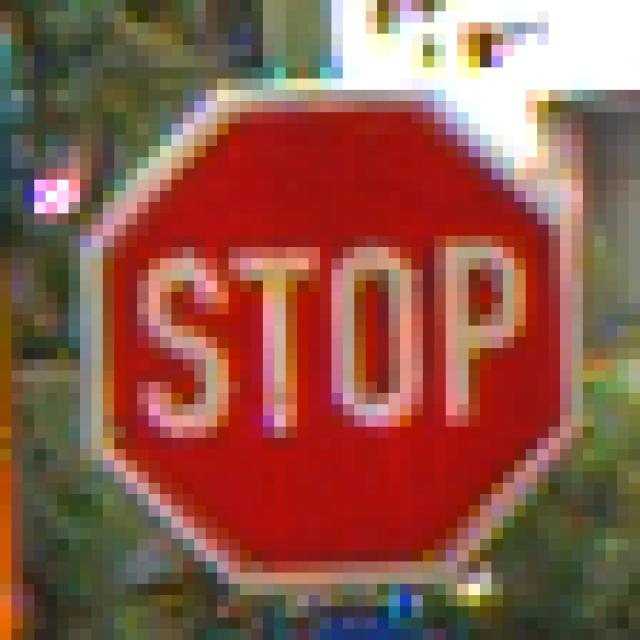STOP: (69, 68, 584, 585)
